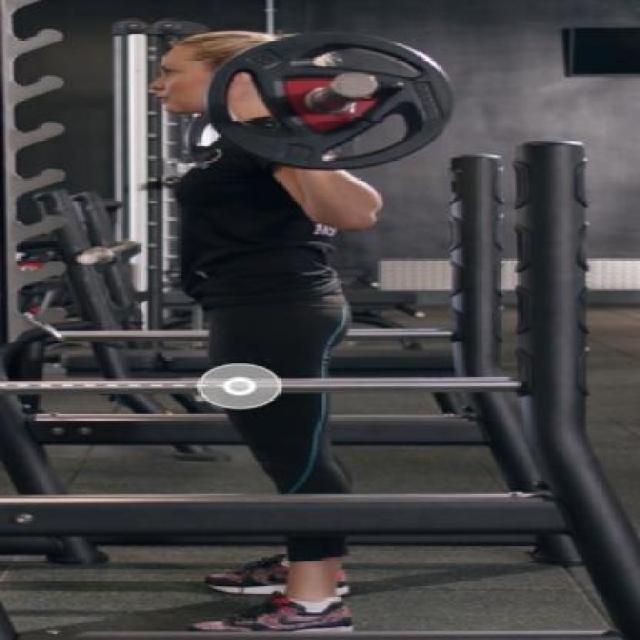barbell: (197, 28, 471, 174)
